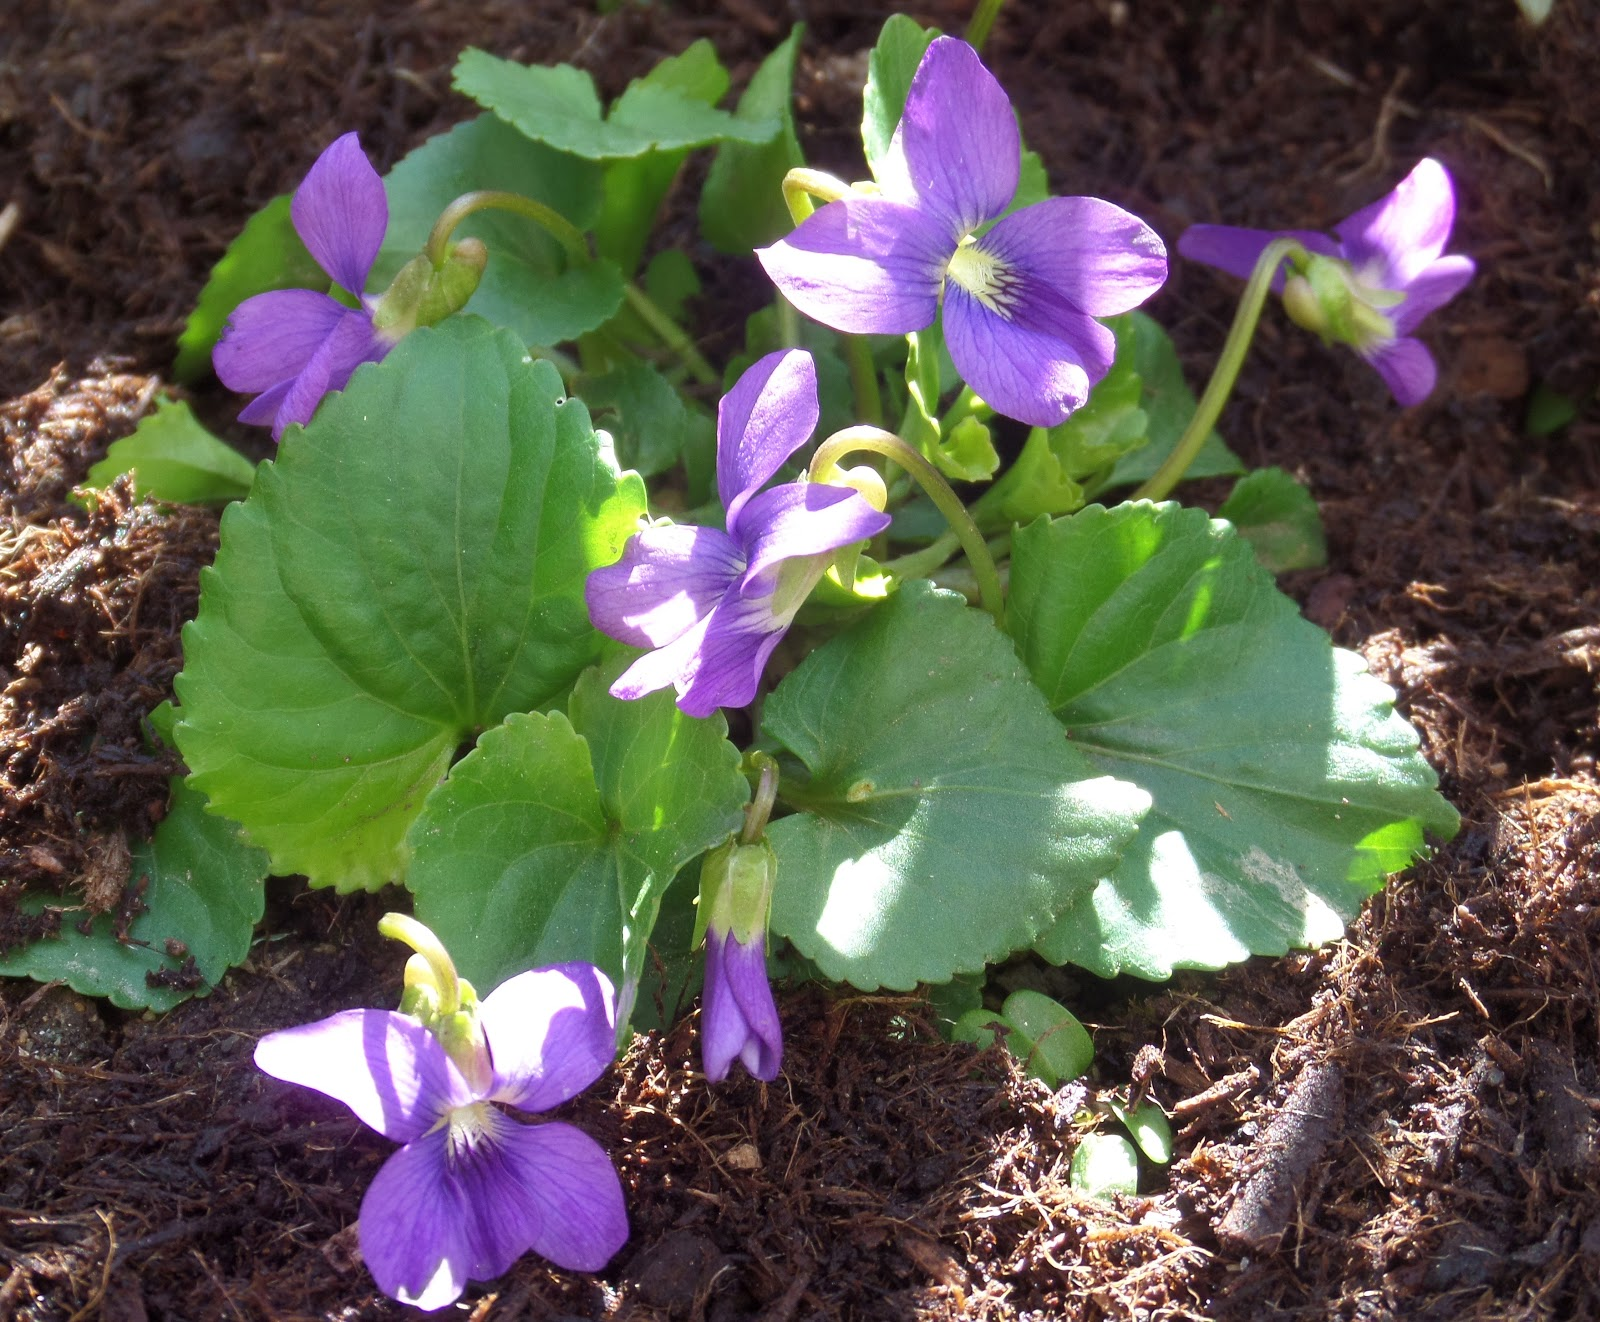violet: (241, 896, 634, 1303), (746, 35, 1159, 423), (567, 345, 890, 737), (1185, 141, 1474, 417), (219, 122, 466, 441)
